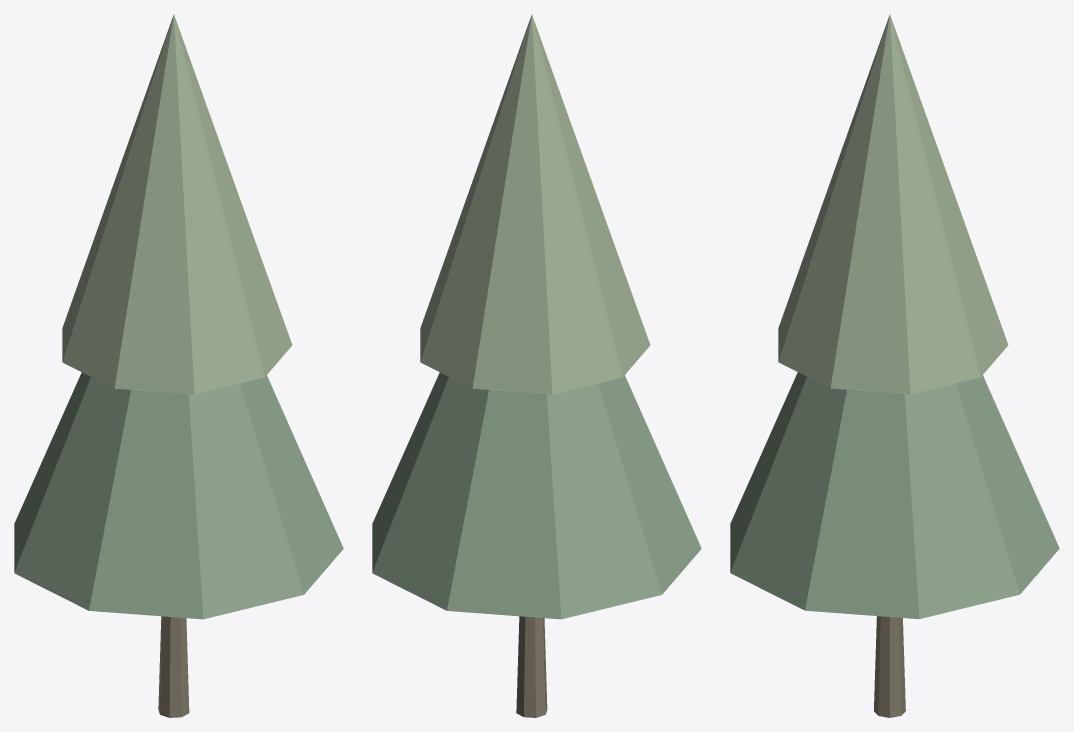
Rendered from tree.glb.
The picture shows the model from 3 angles, left to right: view 1: azimuth 30°, elevation 25°; view 2: azimuth 150°, elevation 25°; view 3: azimuth 270°, elevation 25°; orthographic projection.
Visible parts, largest first — view 1: tree; view 2: tree; view 3: tree.
Boxes of the visible parts, <box> form: tree: <box>14,14,343,717</box>; tree: <box>372,14,701,717</box>; tree: <box>730,14,1059,717</box>.
Bounding box in the file's own units: 5.22 × 12 × 5.14.
